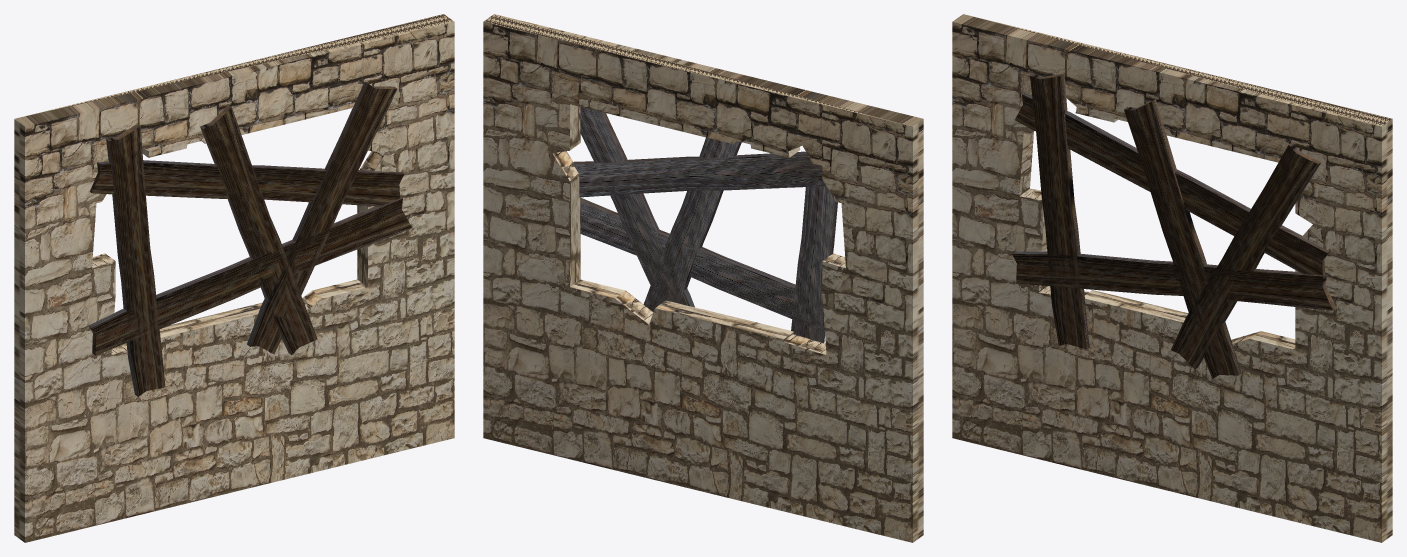
Rendered from WallWindow.fbx.
3 views of the same model, side by side, from view 1: azimuth 30°, elevation 25°; view 2: azimuth 150°, elevation 25°; view 3: azimuth 330°, elevation 25° (orthographic).
Parts seen in each view (by area): view 1: pCube24; view 2: pCube24; view 3: pCube24.
Part boxes in pixels (bbox=[...]): pCube24: bbox=[14, 14, 454, 542]; pCube24: bbox=[483, 14, 923, 542]; pCube24: bbox=[952, 14, 1392, 542].
Bounding box in the file's own units: 3.65 × 3.38 × 0.207.
